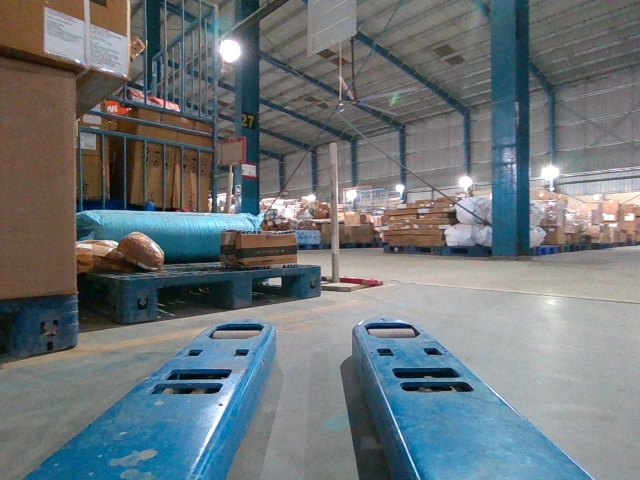pallet: (125, 264, 321, 322)
